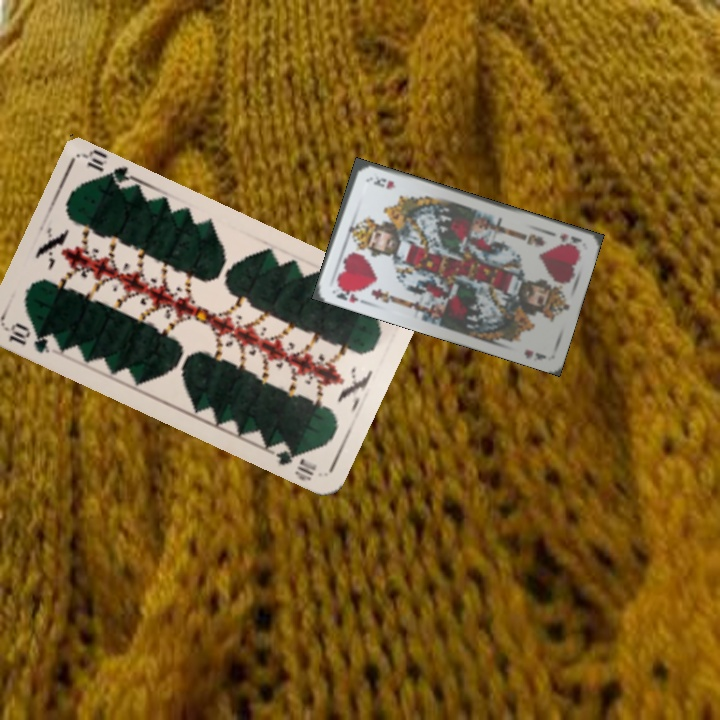G10: (3, 318, 53, 356)
HK: (332, 281, 369, 305), (546, 227, 584, 250)
